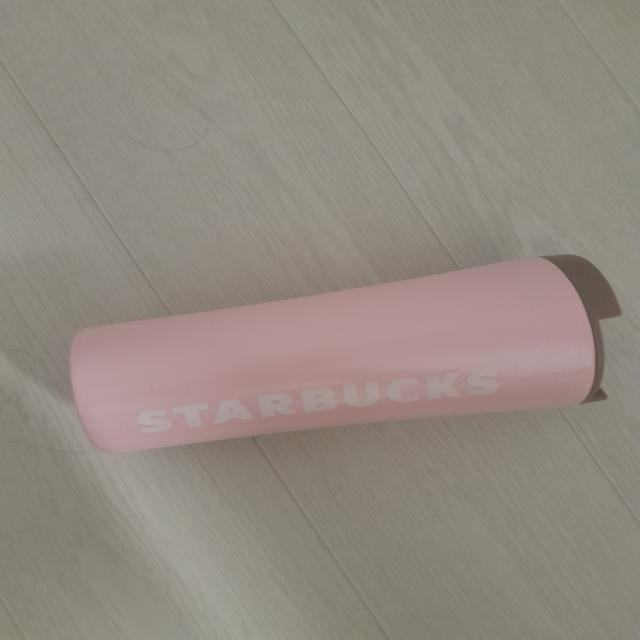waterbottle: (72, 253, 619, 452)
